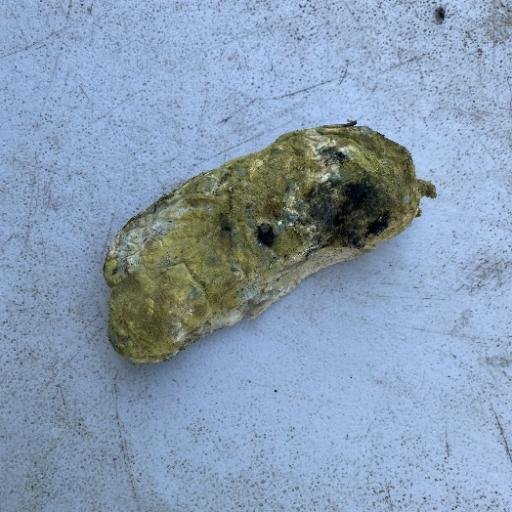Waste: (100, 118, 438, 366)
